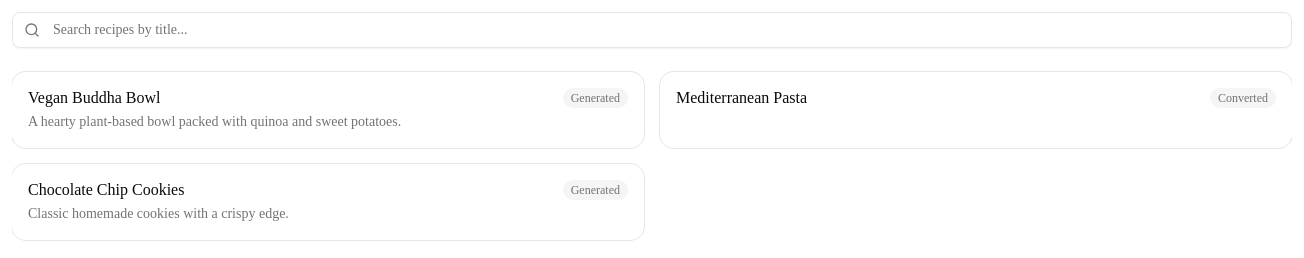
RecipesList › filters recipes by title (case-insensitive)
This screenshot has width=1304, height=258.
In the field with test id "search-input": (652, 30) [12,12,1292,48], type "buddha"
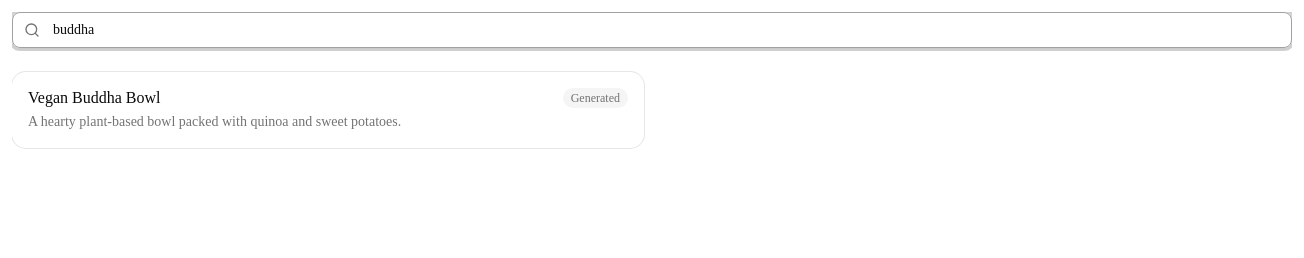
Check: the text "Vegan Buddha Bowl" is shown, box [28,88,160,108]
Check: the link "Mediterranean Pasta" is gone
Check: the link "Chocolate Chip Cookies" is gone
